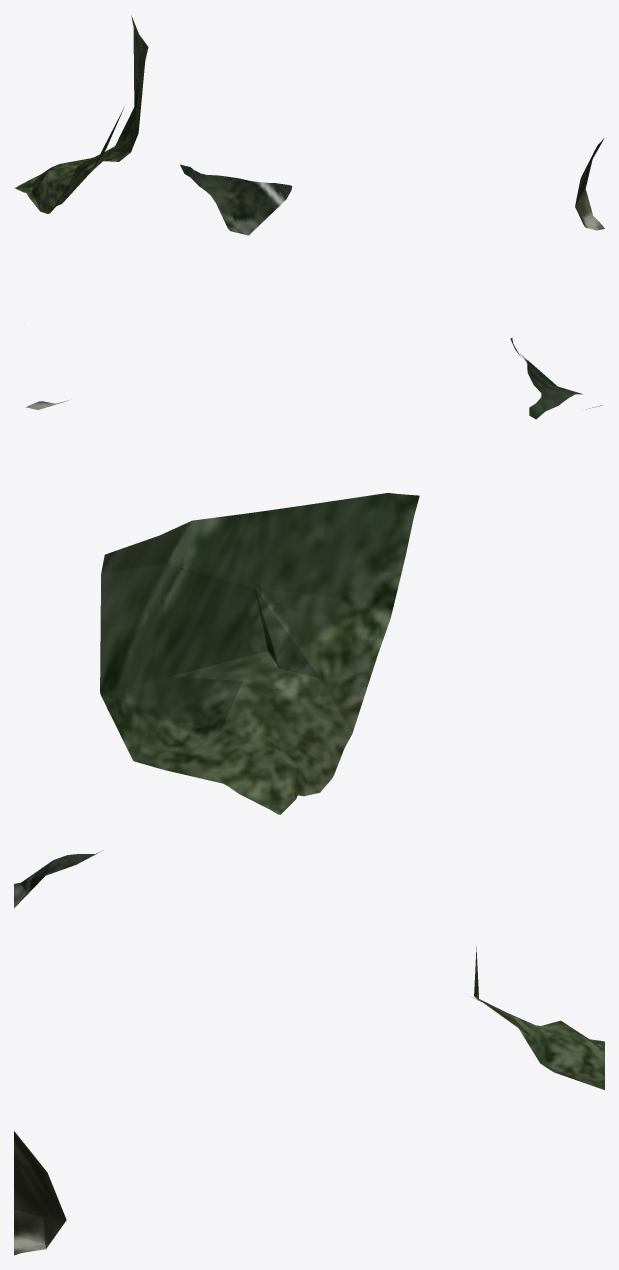
3 views of the same model, one above another, from view 1: azimuth 30°, elevation 25°; view 2: azimuth 150°, elevation 25°; view 3: azimuth 270°, elevation 25° (orthographic). The views are drawn at different scales.
Bounding box in the file's own units: 2.95 × 1.12 × 2.95.
Materials: 1 (1 with a texture image).
